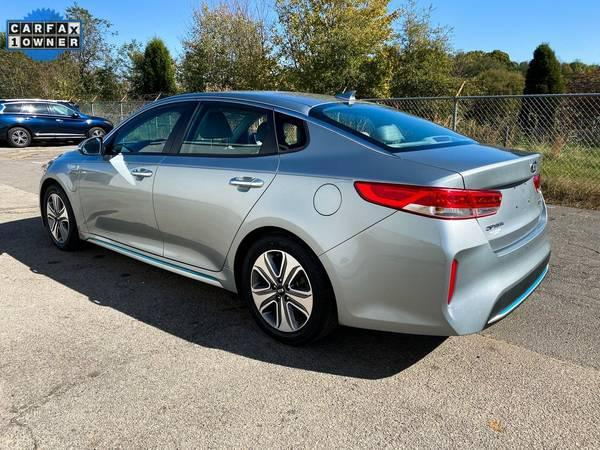Front_Fender: (37, 156, 87, 242)
Front_Left_Door: (77, 153, 166, 266)
Front_Left_Window: (83, 100, 196, 154)
Left_Taillight: (352, 180, 501, 219)
Rear_Bumper: (316, 194, 552, 335)
Rear_Fender: (245, 109, 462, 253)
Rear_Left_Door: (154, 155, 278, 292)
Rear_Left_Window: (166, 100, 277, 156)
Rear_Windshield: (307, 101, 476, 150)
Roof: (100, 90, 395, 155)
Tailgate: (395, 140, 542, 247)
Wheel: (239, 239, 329, 348), (38, 185, 76, 255)
